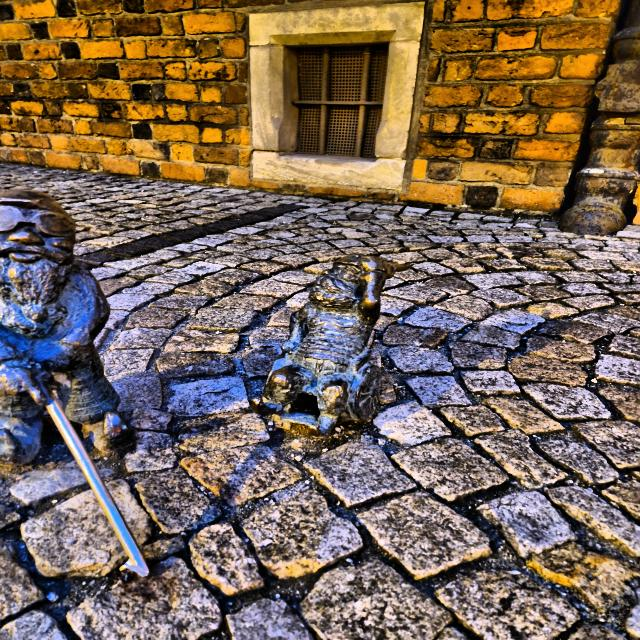Slepak: (0, 186, 149, 579)
W-Skers: (248, 253, 414, 435)
